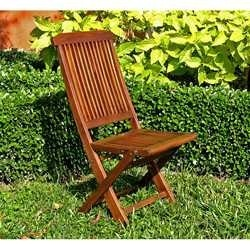obstacle: (53, 31, 196, 223)
